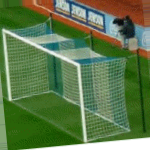goals: (2, 21, 132, 142)
